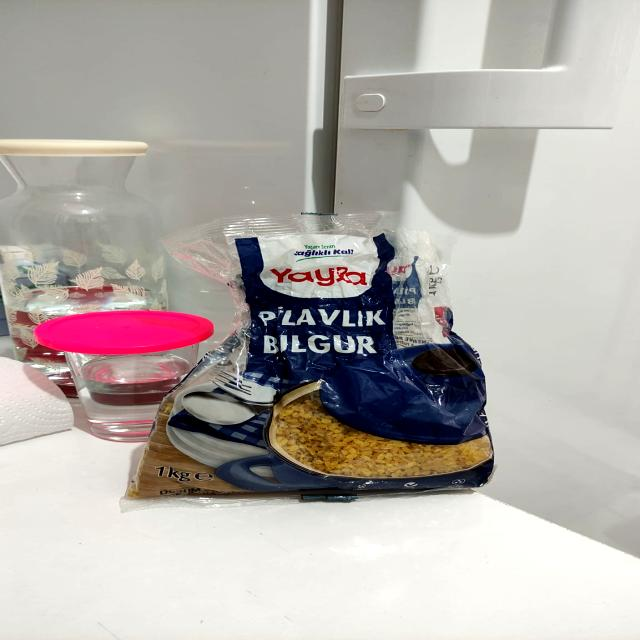bulgur: (163, 210, 496, 502)
